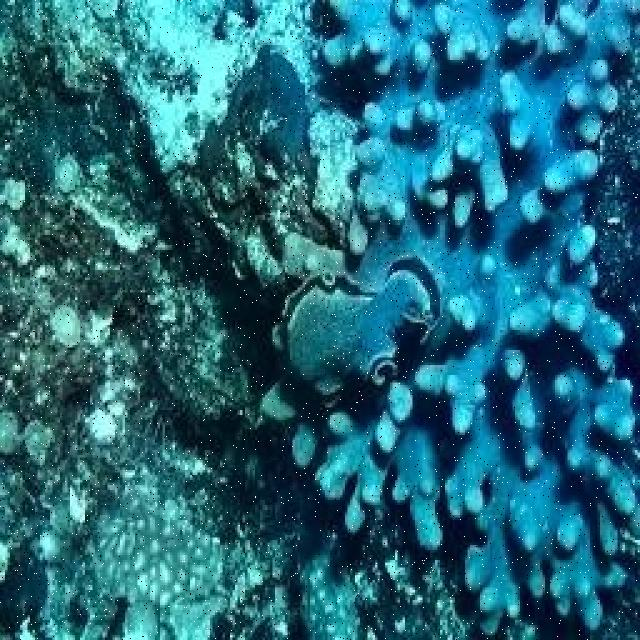reefs: (261, 3, 638, 635), (271, 256, 445, 410)
